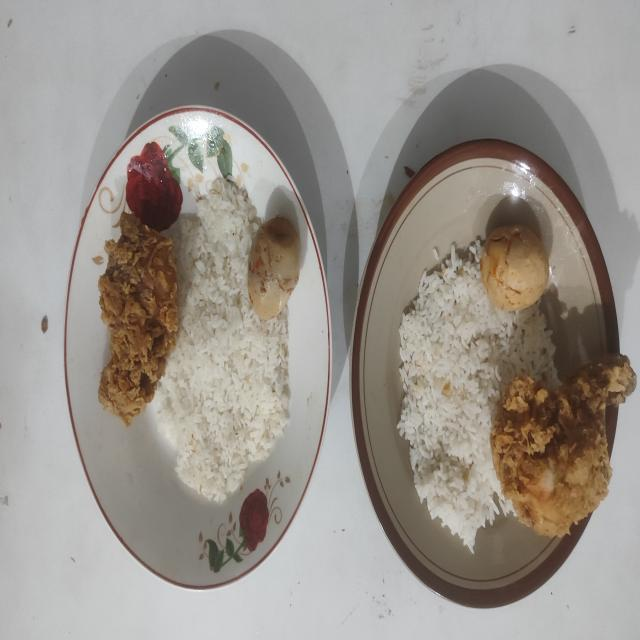nasi_putih: (397, 240, 558, 550), (155, 180, 290, 502)
